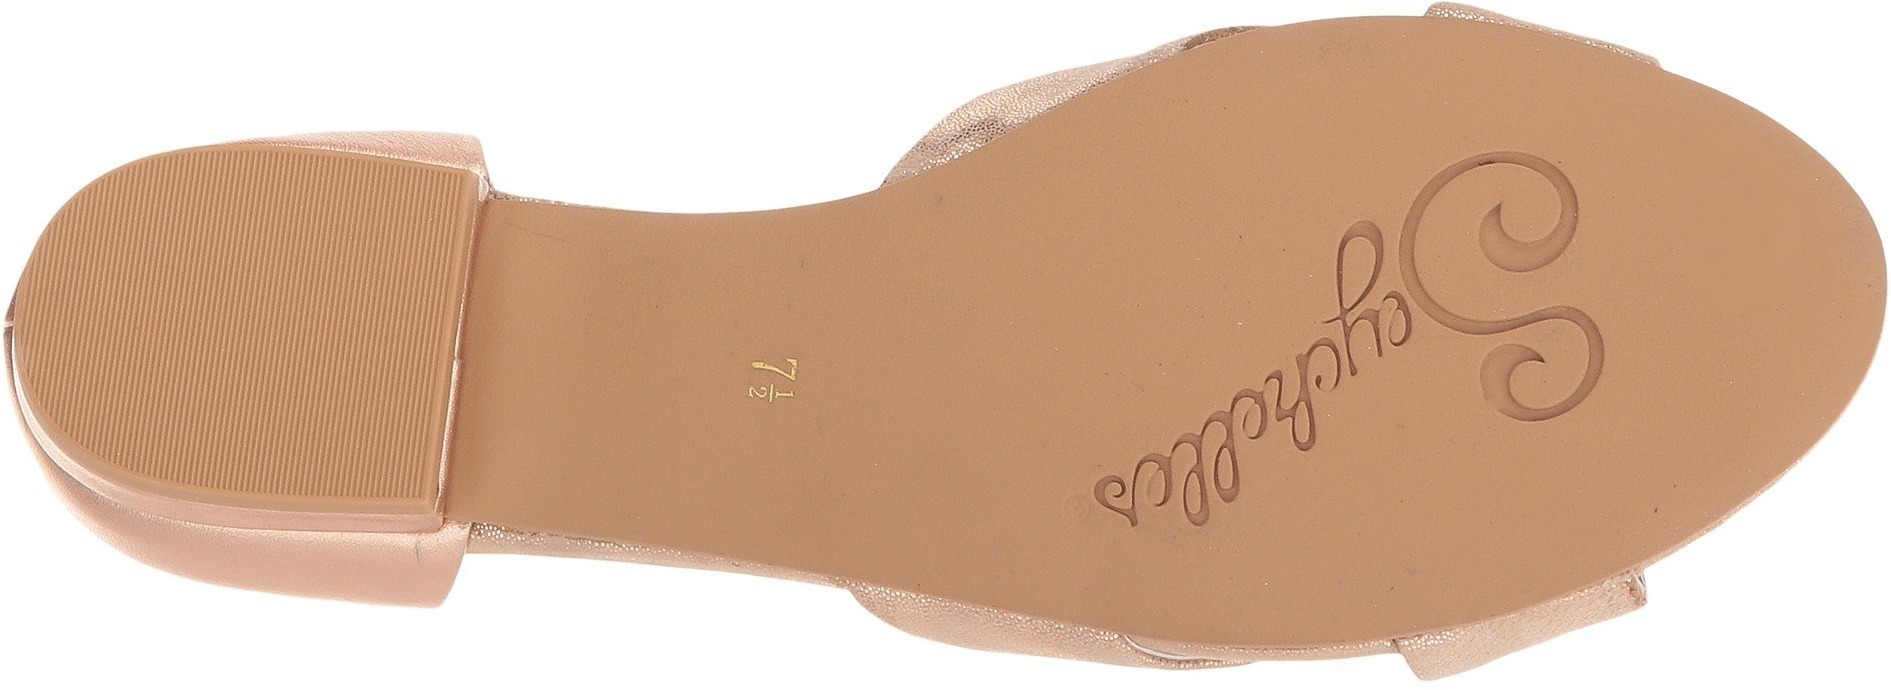exclude: (89, 82, 500, 168)
line: (17, 147, 476, 497)
